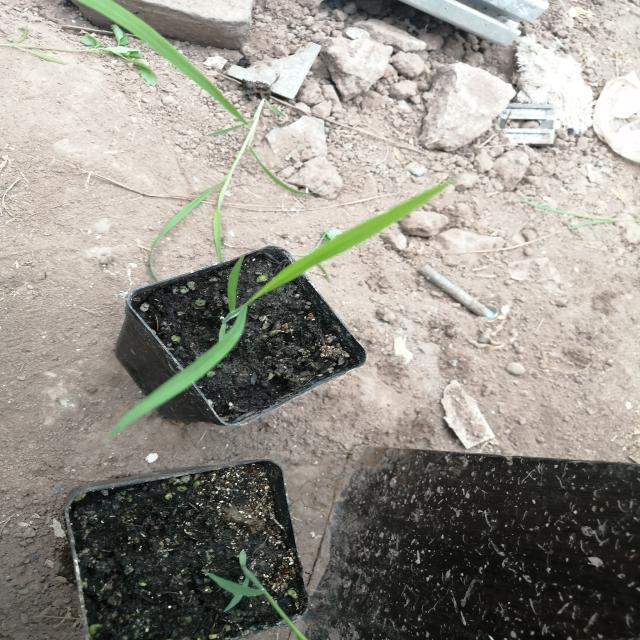crabgrass: (80, 154, 467, 418)
